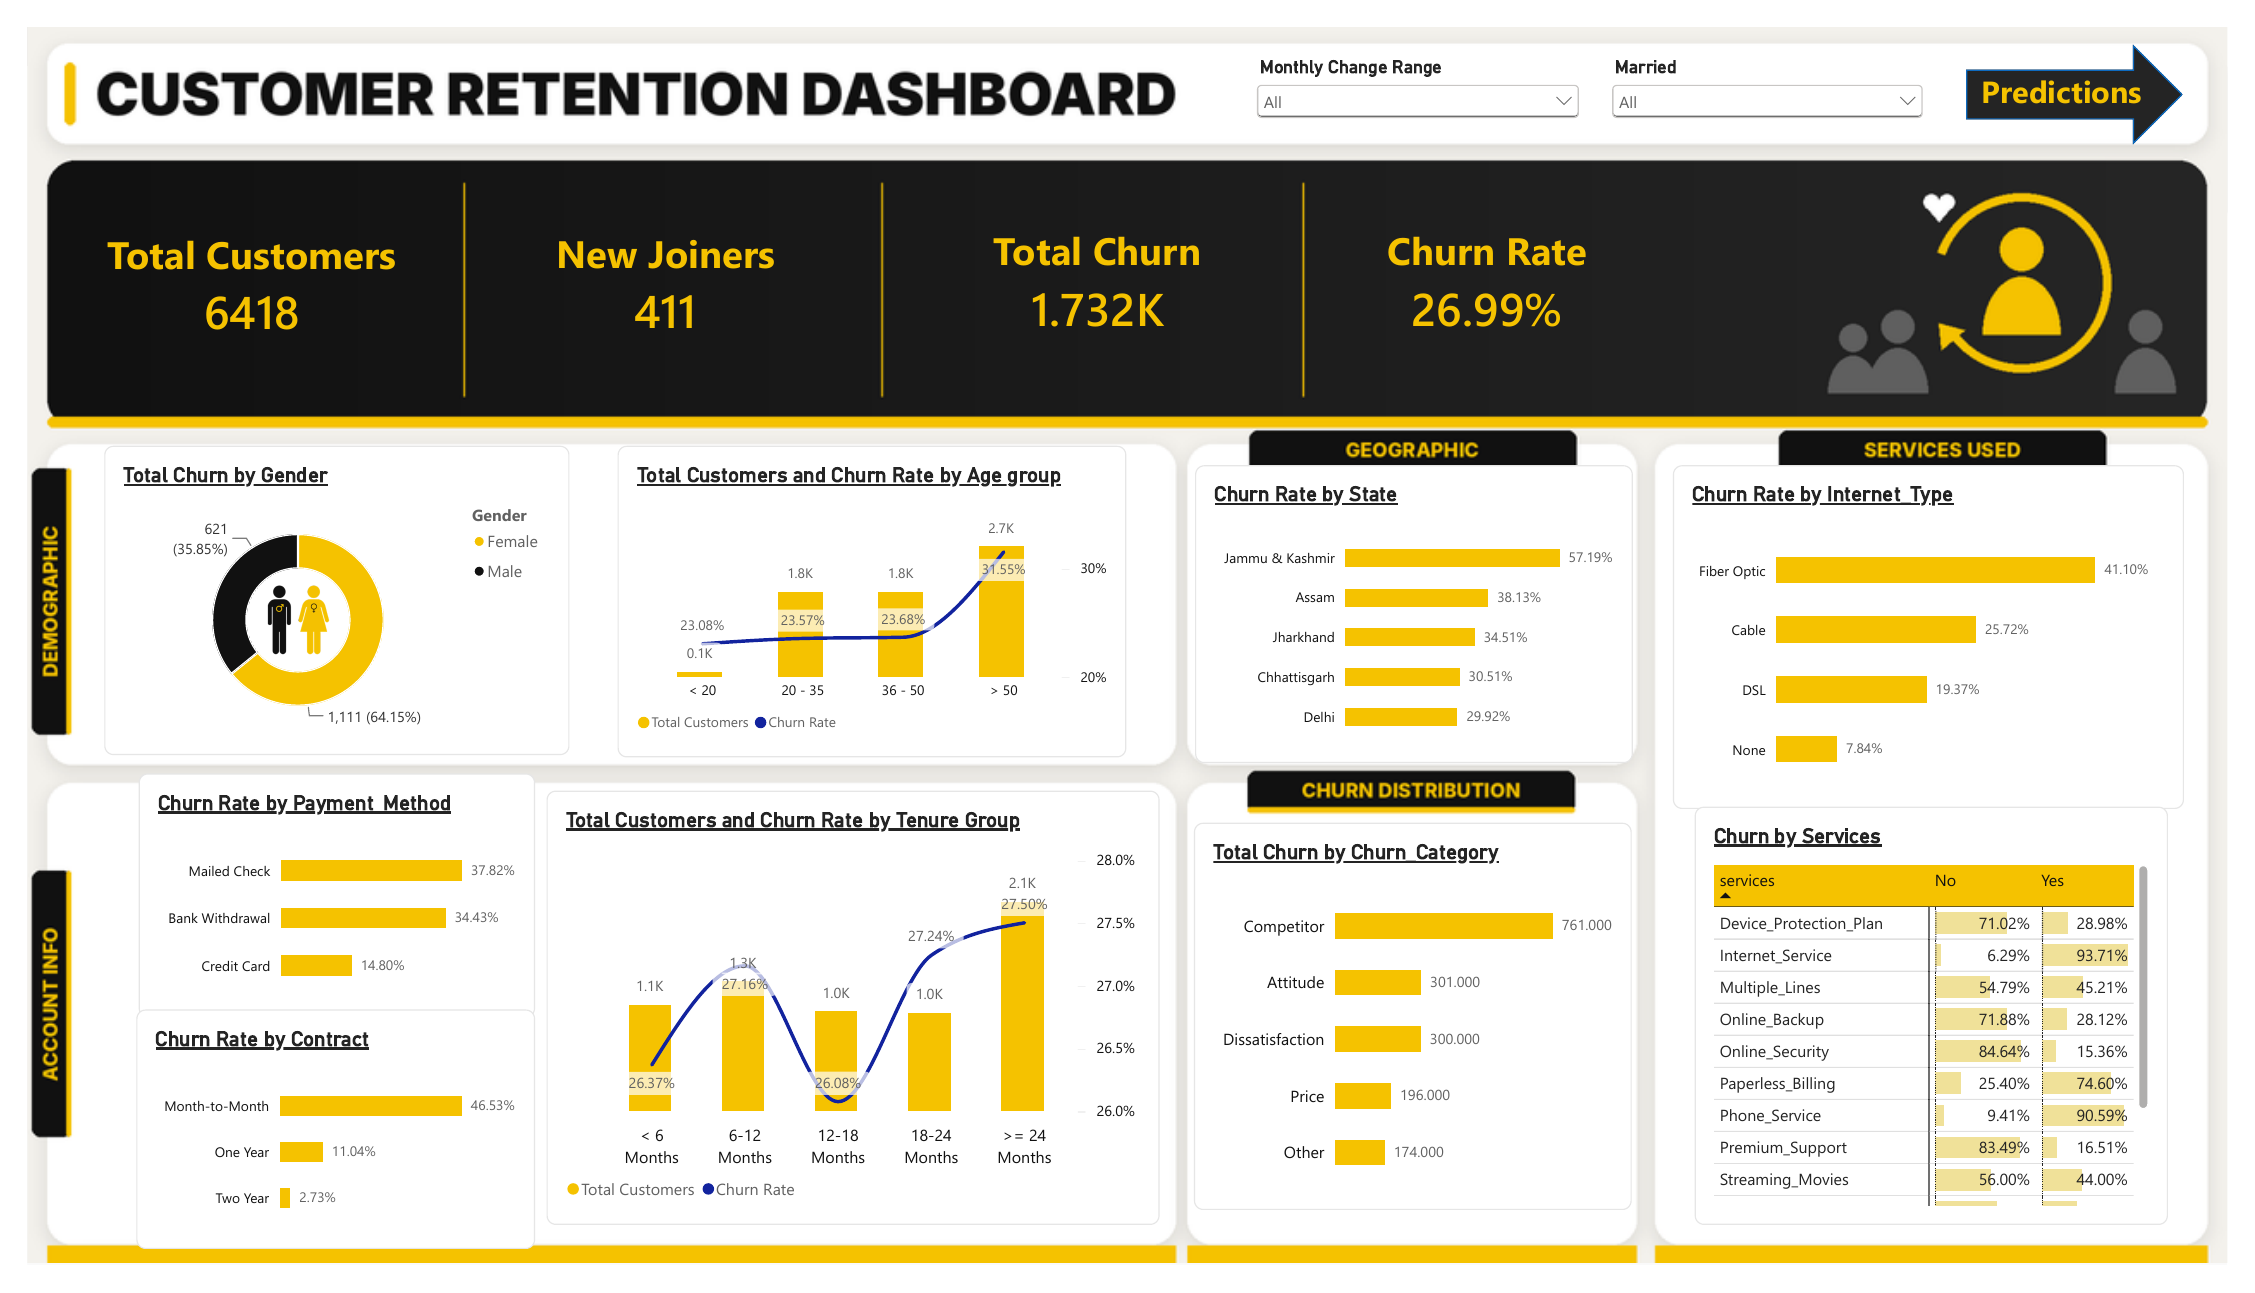

What the dashboard file says about the page in this screenshot:
{"tool":"powerbi","page":{"name":"Summary","canvas":[1920,1080],"ordinal":0},"visuals":[{"type":"cardVisual","title":"hello","fields":{"Data":["tbl_measures.Total Customers"]},"box":[47.5,112.5,296,224],"z":0},{"type":"cardVisual","fields":{"Data":["tbl_measures.New Joiners"]},"box":[406,112,302,224],"z":1000},{"type":"cardVisual","fields":{"Data":["tbl_measures.Churn Rate"]},"box":[1125,110,298,224],"z":2000},{"type":"cardVisual","fields":{"Data":["tbl_measures.Total Churn"]},"box":[762.5,110,342,224],"z":3000},{"type":"donutChart","title":"Total Churn by Gender","fields":{"Category":["prod_Churn.Gender"],"Y":["tbl_measures.Total Churn"]},"box":[66.8,365,406,270],"z":4000},{"type":"lineStackedColumnComboChart","fields":{"Category":["mapping_age_grp.Age group"],"Y":["tbl_measures.Total Customers"],"Y2":["tbl_measures.Churn Rate"]},"box":[515.4,365,443.8,272],"z":5000},{"type":"clusteredBarChart","fields":{"Category":["prod_Churn.Payment_Method"],"Y":["tbl_measures.Churn Rate"]},"box":[96.7,651,345.9,212.7],"z":6000},{"type":"clusteredBarChart","fields":{"Category":["prod_Churn.Contract"],"Y":["tbl_measures.Churn Rate"]},"box":[94.5,857.3,348.1,208.4],"z":7000},{"type":"lineStackedColumnComboChart","fields":{"Category":["mapping_tenure_grp.Tenure Group"],"Y":["tbl_measures.Total Customers"],"Y2":["tbl_measures.Churn Rate"]},"box":[453.3,665.7,534.4,379.4],"z":8000},{"type":"clusteredBarChart","fields":{"Category":["prod_Churn.State"],"Y":["tbl_measures.Churn Rate"]},"box":[1018.8,381.7,381.7,260.1],"z":9000},{"type":"clusteredBarChart","fields":{"Category":["prod_Churn.Churn_Category"],"Y":["tbl_measures.Total Churn"]},"box":[1018,694,382,338],"z":10000},{"type":"clusteredBarChart","fields":{"Category":["prod_Churn.Internet_Type"],"Y":["tbl_measures.Churn Rate"]},"box":[1436.3,381.7,446.2,300.6],"z":11000},{"type":"pivotTable","title":"Churn by Services","fields":{"Columns":["prod service.status"],"Rows":["prod service.services"],"Values":["Sum(prod service.Churn_status)"]},"box":[1455.4,680,412.8,365],"z":12000},{"type":"slicer","fields":{"Values":["prod service.monthly change status"]},"box":[1067.8,25.4,291.5,78],"z":13000},{"type":"image","box":[193.3,477.2,85.9,76.3],"z":13500},{"type":"slicer","fields":{"Values":["prod service.Married"]},"box":[1378,25.4,281.4,79.7],"z":14000},{"type":"shape","box":[1691.5,15.3,189.8,86.4],"z":14002}]}

Visuals, with their boxes in screenshot pixels (x1, y1, x2, y2), scaled from the page's 1920x1080 canvas onto the 2255x1293 screenshot:
"hello" cardVisual: box(56, 135, 403, 403)
cardVisual - tbl_measures.New Joiners: box(477, 134, 832, 402)
cardVisual - tbl_measures.Churn Rate: box(1321, 132, 1671, 400)
cardVisual - tbl_measures.Total Churn: box(896, 132, 1297, 400)
"Total Churn by Gender" donutChart: box(78, 437, 555, 760)
lineStackedColumnComboChart - mapping_age_grp.Age group x tbl_measures.Total Customers: box(605, 437, 1127, 763)
clusteredBarChart - prod_Churn.Payment_Method x tbl_measures.Churn Rate: box(114, 779, 520, 1034)
clusteredBarChart - prod_Churn.Contract x tbl_measures.Churn Rate: box(111, 1026, 520, 1276)
lineStackedColumnComboChart - mapping_tenure_grp.Tenure Group x tbl_measures.Total Customers: box(532, 797, 1160, 1251)
clusteredBarChart - prod_Churn.State x tbl_measures.Churn Rate: box(1197, 457, 1645, 768)
clusteredBarChart - prod_Churn.Churn_Category x tbl_measures.Total Churn: box(1196, 831, 1644, 1236)
clusteredBarChart - prod_Churn.Internet_Type x tbl_measures.Churn Rate: box(1687, 457, 2211, 817)
"Churn by Services" pivotTable: box(1709, 814, 2194, 1251)
slicer - prod service.monthly change status: box(1254, 30, 1596, 124)
image: box(227, 571, 328, 663)
slicer - prod service.Married: box(1618, 30, 1949, 126)
shape: box(1987, 18, 2210, 122)
